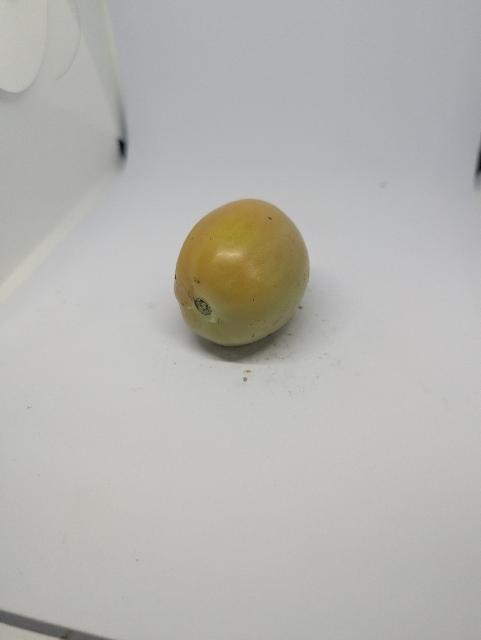breaker: (174, 192, 313, 354)
